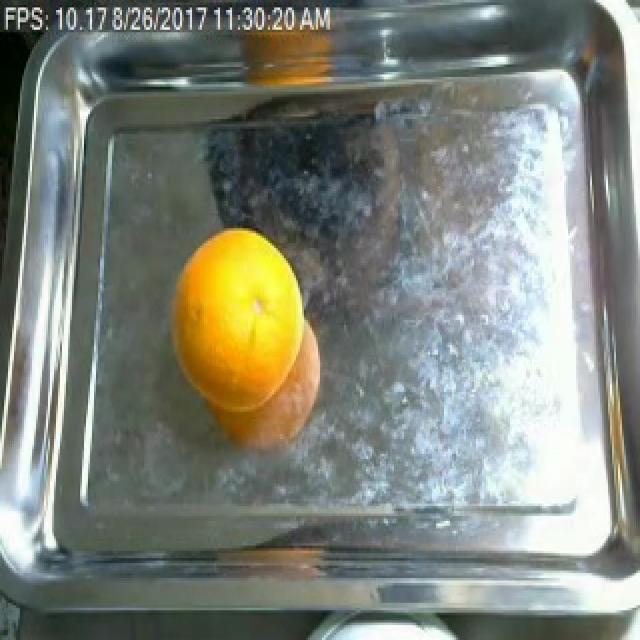Fruit: (162, 216, 316, 446), (232, 5, 346, 97)
